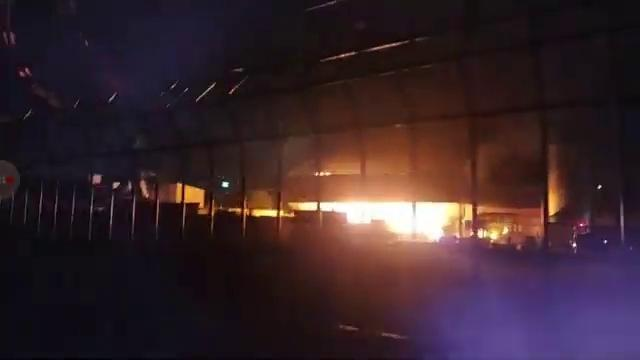fire: (325, 205, 450, 244)
